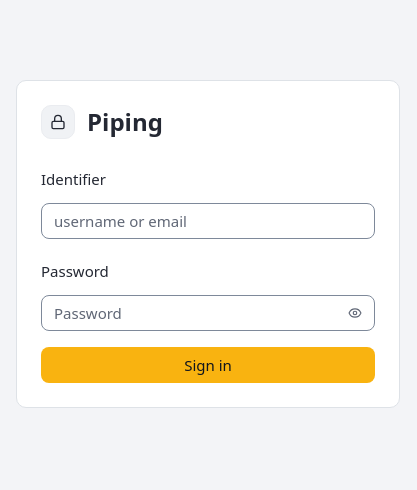
AuthLogin › locks the submitted credentials until login settles and retains them on failure
The image size is (417, 490).
In the field labelled "Identifier": (208, 221) [41,203,375,239], type "layout-test-user"
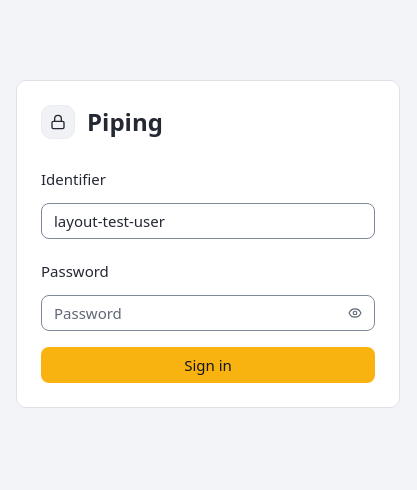
In the password field labelled "Password": (208, 313) [41,295,375,331], type "local-test-draft"
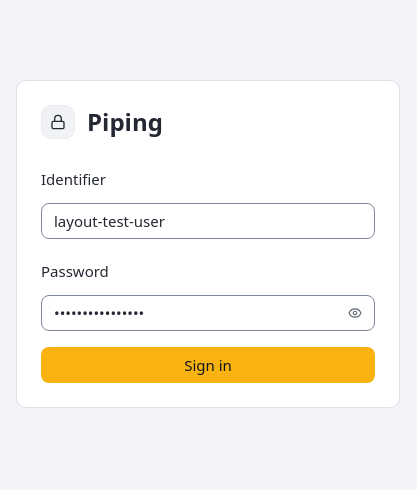
Click the button "Sign in": (208, 365) [41,347,375,383]
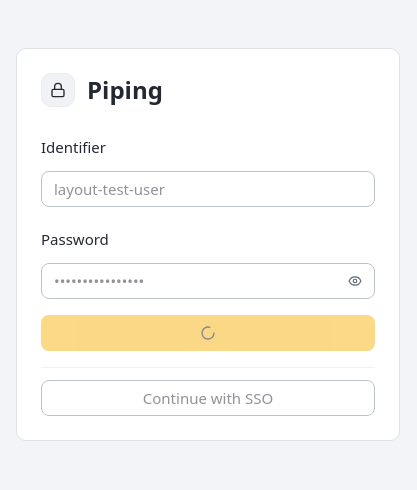
Now the field labelled "Identifier" is disabled
Now the password field labelled "Password" is disabled, box [41,262,375,298]
Now the button named "Show password" is disabled, box [339,264,371,296]
Replace the text in the field labelled "Identifier" with "replacement-user": (208, 188) [41,170,375,206]
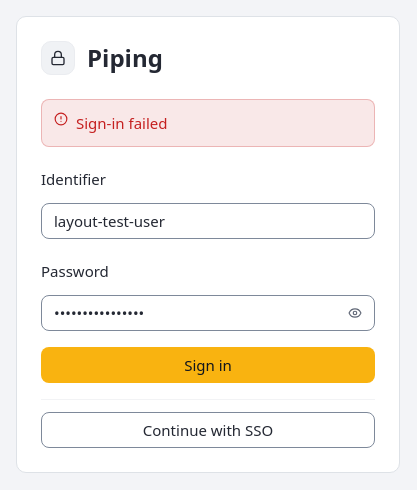
Now the field labelled "Identifier" is enabled, box [41,202,375,238]
Now the message "Sign-in failed" is shown, box [41,98,375,146]
